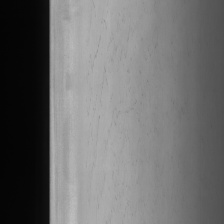silk_spot: (82, 10, 155, 196)
